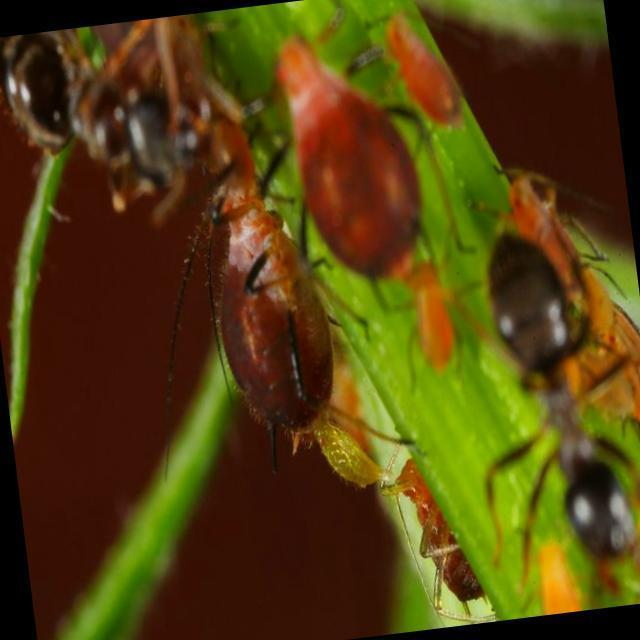aphid: (137, 132, 377, 494)
